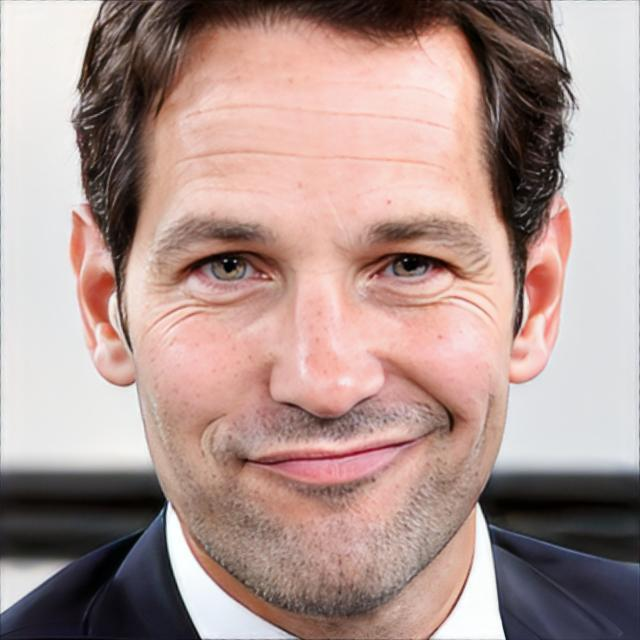content: (126, 38, 517, 616)
